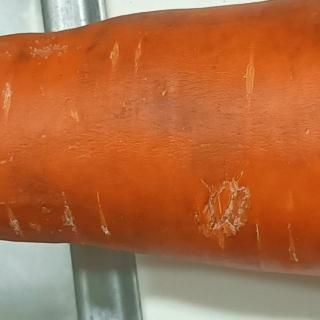carrot: (0, 0, 320, 304)
